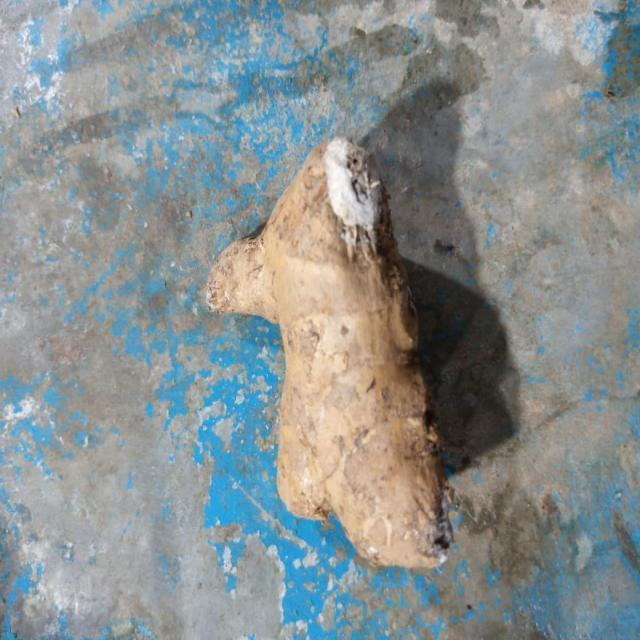ginger: (209, 143, 453, 572)
